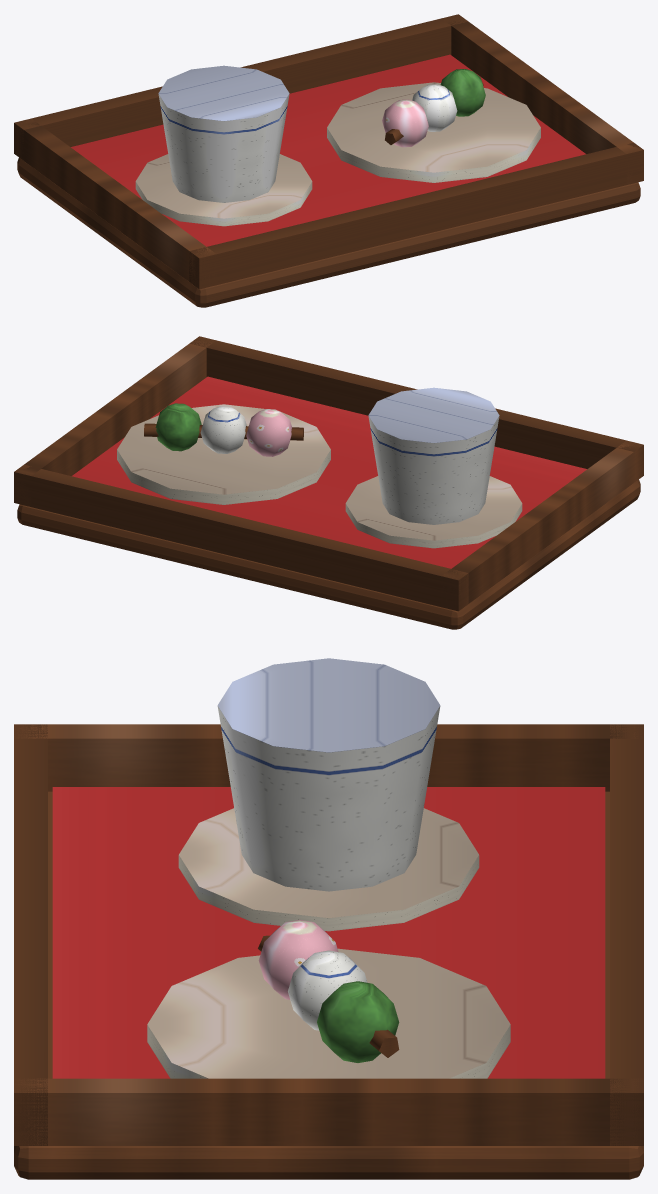
Rendered from tray-tea.glb.
The picture shows the model from 3 angles, top to bottom: view 1: azimuth 30°, elevation 25°; view 2: azimuth 150°, elevation 25°; view 3: azimuth 270°, elevation 25°; orthographic projection. The views are drawn at different scales.
Parts seen in each view (by area): view 1: tray-tea; view 2: tray-tea; view 3: tray-tea.
Part boxes in pixels (left/top/right/bottom): tray-tea: left=14, top=14, right=643, bottom=307; tray-tea: left=14, top=336, right=643, bottom=629; tray-tea: left=14, top=658, right=643, bottom=1179.
Bounding box in the file's own units: 0.036 × 0.0095 × 0.026.
Materials: 1 (1 with a texture image).
